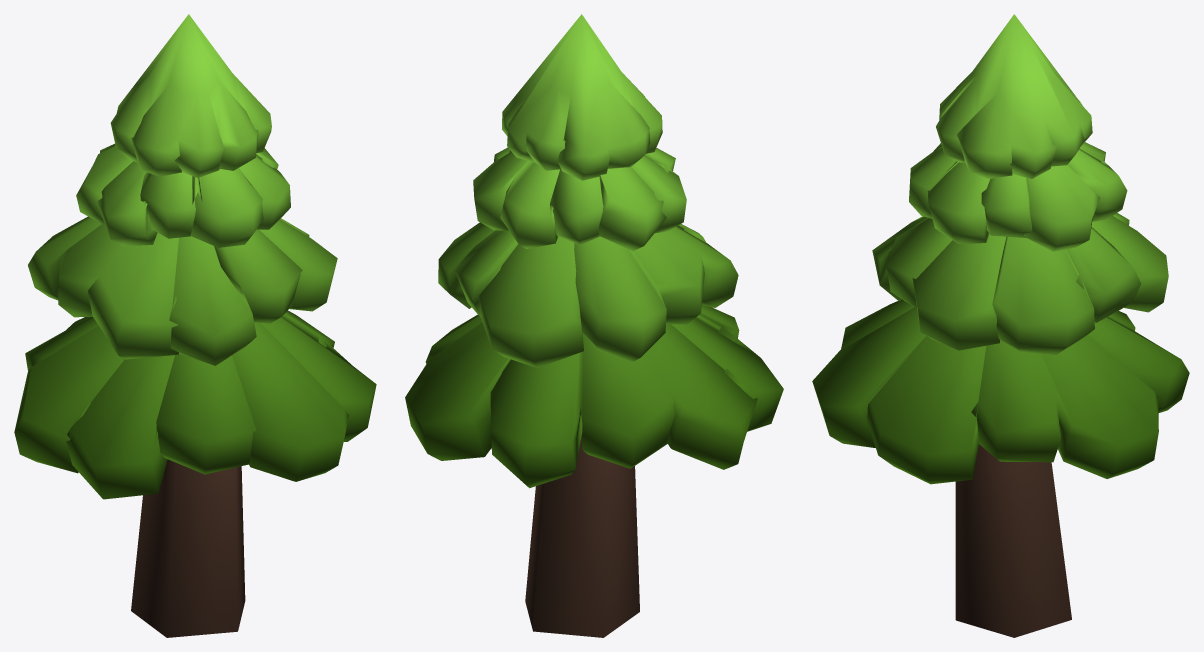
The model's file is Tree1.fbx.
3 renders of one model, left to right at view 1: azimuth 30°, elevation 25°; view 2: azimuth 150°, elevation 25°; view 3: azimuth 270°, elevation 25°, orthographic.
Parts seen in each view (by area): view 1: Tree1; view 2: Tree1; view 3: Tree1.
Part boxes in pixels (left/top/right/bottom): Tree1: left=14, top=14, right=376, bottom=637; Tree1: left=405, top=14, right=783, bottom=637; Tree1: left=812, top=14, right=1189, bottom=637.
Size of the model in its own units: 352 by 647 by 371.
